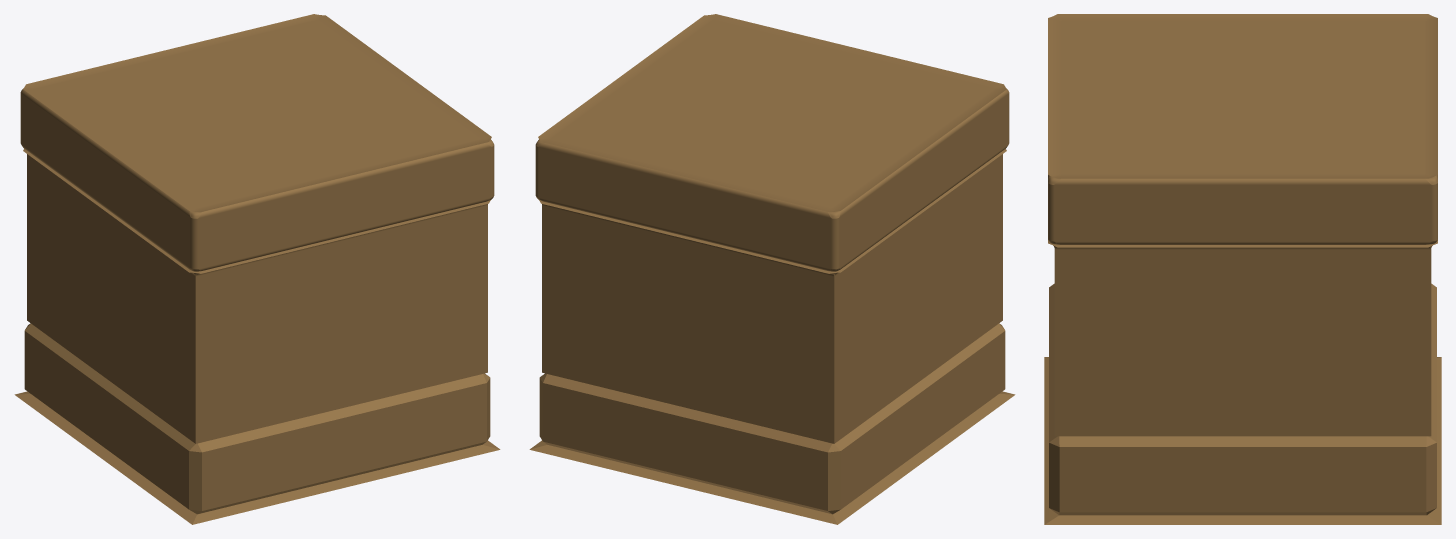
Rendered from cajaalimentos.fbx.
3 renders of one model, left to right at view 1: azimuth 30°, elevation 25°; view 2: azimuth 150°, elevation 25°; view 3: azimuth 270°, elevation 25°, orthographic. The views are drawn at different scales.
Parts seen in each view (by area): view 1: Cube; view 2: Cube; view 3: Cube.
Part boxes in pixels (x1,y1,x2,y2): Cube: [14, 14, 500, 524]; Cube: [529, 14, 1015, 524]; Cube: [1044, 14, 1441, 524].
Bounding box in the file's own units: 211 × 202 × 211.
